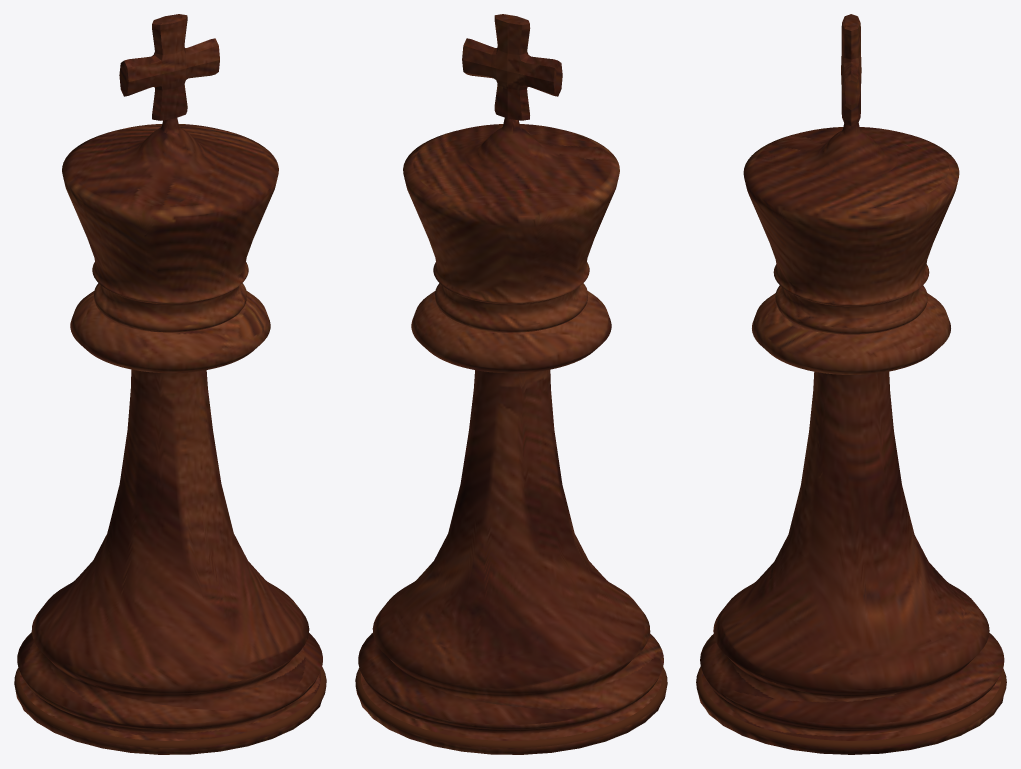
The model's file is king_black.glb.
3 views of the same model, side by side, from view 1: azimuth 30°, elevation 25°; view 2: azimuth 150°, elevation 25°; view 3: azimuth 270°, elevation 25° (orthographic).
Visible parts, largest first — view 1: Cylinder; view 2: Cylinder; view 3: Cylinder.
Part boxes in pixels (left/top/right/bottom): Cylinder: left=14, top=14, right=326, bottom=754; Cylinder: left=355, top=14, right=667, bottom=754; Cylinder: left=696, top=14, right=1006, bottom=754.
Bounding box in the file's own units: 0.5998 × 1.45 × 0.5998.
1 material, 1 textured.
